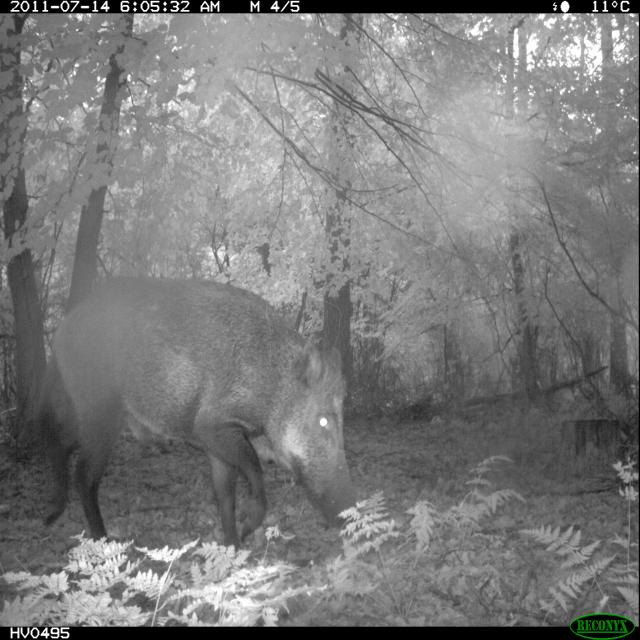boar: (41, 258, 378, 570)
